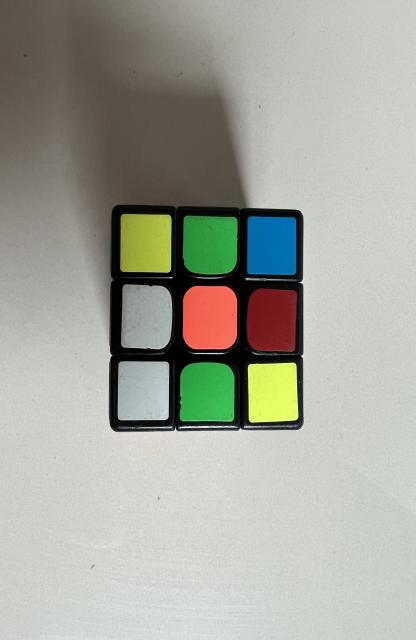Blue: (247, 216, 297, 275)
Green: (180, 362, 235, 421), (183, 215, 237, 275)
Orange: (183, 286, 237, 350)
Red: (247, 289, 297, 352)
White: (120, 285, 172, 350), (118, 361, 169, 421)
Yellow: (248, 362, 298, 422), (120, 214, 171, 272)
